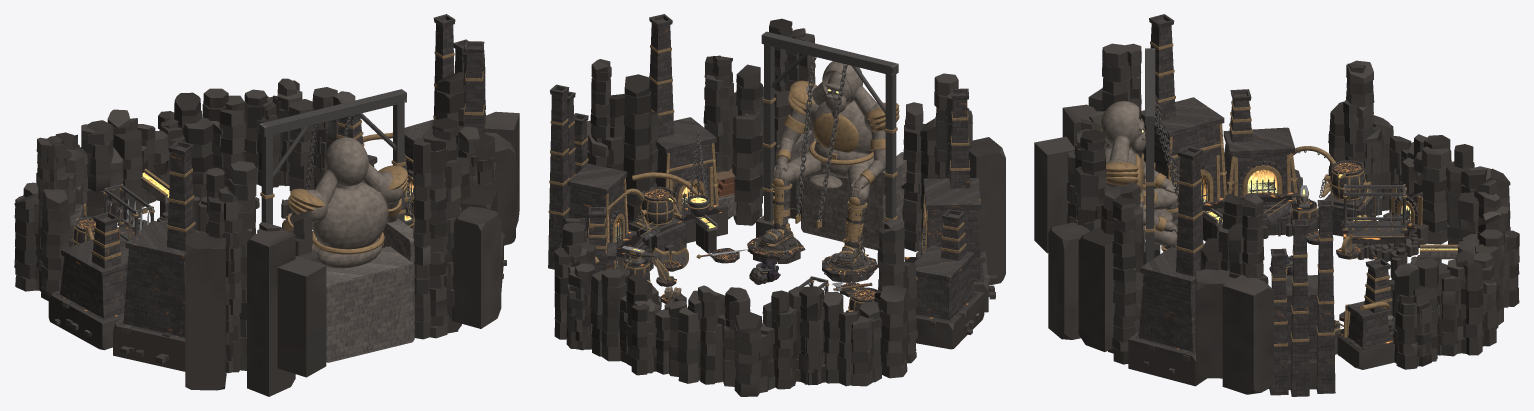
File: ForgeBackdrop.gltf
3 views of the same model, side by side, from view 1: azimuth 30°, elevation 25°; view 2: azimuth 150°, elevation 25°; view 3: azimuth 270°, elevation 25° (orthographic). The views are drawn at different scales.
Visible parts, largest first — view 1: Cliff1, Cliff2, Cliff5, KilnNE, Throne, Cliff7, Cliff6, KilnE, TitanBody, Cliff3, Gantry, TitanHood (+7 smaller); view 2: Cliff6, Cliff5, Cliff2, Cliff7, Cliff1, KilnW, Cliff3, KilnE, Gantry, KilnNW, KilnNE, Throne (+25 smaller); view 3: Cliff2, Cliff3, KilnNW, Cliff5, KilnW, Cliff1, Cliff7, Cliff6, KilnNE, KilnE, KilnSW, Cliff4 (+19 smaller).
Boxes of the visible parts, x1,y1,x2,y2 form: Cliff1: (185, 161, 326, 396); Cliff2: (413, 118, 501, 339); Cliff5: (153, 78, 337, 201); KilnNE: (113, 141, 206, 371); Throne: (326, 218, 414, 362); Cliff7: (14, 136, 76, 300); Cliff6: (55, 109, 155, 220); KilnE: (48, 212, 128, 350); TitanBody: (283, 171, 404, 268); Cliff3: (436, 47, 519, 245); Gantry: (259, 89, 406, 224); TitanHood: (314, 137, 383, 203); Cliff6: (668, 285, 824, 396); Cliff5: (554, 222, 669, 375); Cliff2: (703, 18, 815, 225); Cliff7: (822, 219, 917, 386); Cliff1: (901, 73, 1005, 285); KilnW: (548, 84, 653, 270); Cliff3: (586, 59, 658, 226); KilnE: (914, 209, 984, 349); Gantry: (756, 31, 904, 267); KilnNW: (649, 14, 727, 242); KilnNE: (905, 88, 997, 312); Throne: (776, 130, 906, 250); Cliff2: (1048, 129, 1143, 364); Cliff3: (1195, 193, 1273, 394); KilnNW: (1128, 146, 1207, 386); Cliff5: (1415, 214, 1519, 361); KilnW: (1269, 199, 1335, 396); Cliff1: (1034, 43, 1141, 253); Cliff7: (1328, 60, 1426, 215); Cliff6: (1421, 135, 1510, 244); KilnNE: (1141, 14, 1231, 225); KilnE: (1223, 89, 1302, 235); KilnSW: (1337, 258, 1394, 369); Cliff4: (1393, 263, 1438, 369).
Bounding box in the file's own units: 79.63 × 39.75 × 75.54.
Materials: 21 (21 with a texture image).
